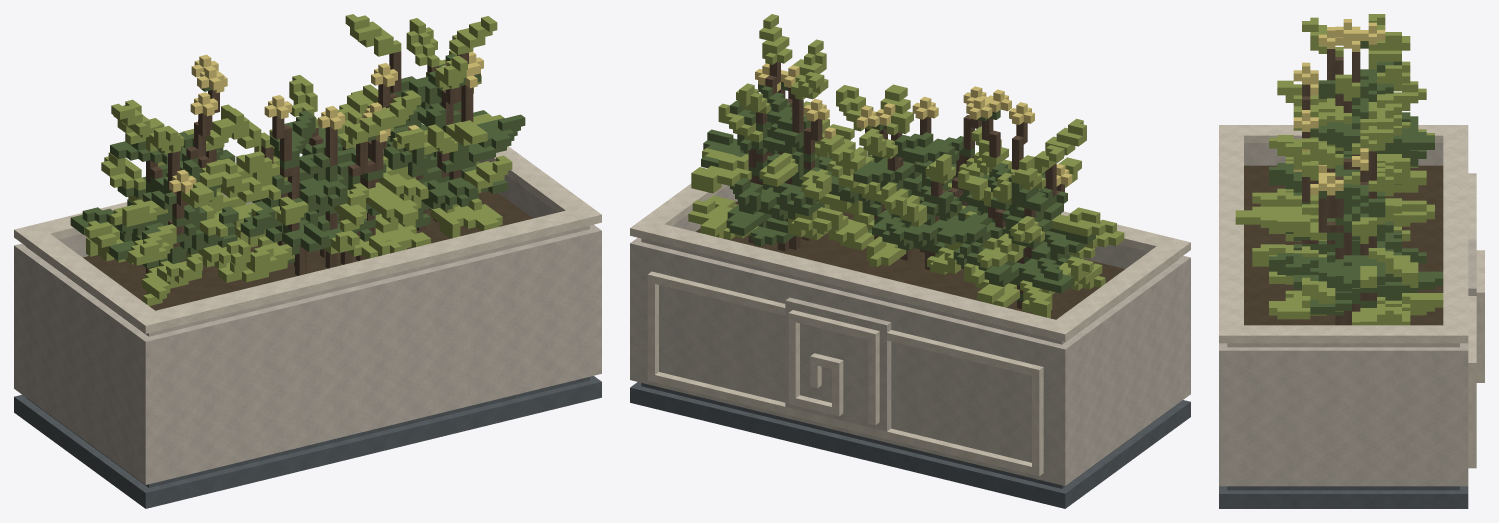
3 renders of one model, left to right at view 1: azimuth 30°, elevation 25°; view 2: azimuth 150°, elevation 25°; view 3: azimuth 270°, elevation 25°, orthographic. The views are drawn at different scales.
Visible parts, largest first — view 1: 研究版 · 花槽 · 口沿与分簇植物; view 2: 研究版 · 花槽 · 口沿与分簇植物; view 3: 研究版 · 花槽 · 口沿与分簇植物.
Boxes of the visible parts, box(x1,y1,x2,y2) form: 研究版 · 花槽 · 口沿与分簇植物: box(14, 14, 601, 508); 研究版 · 花槽 · 口沿与分簇植物: box(630, 14, 1190, 508); 研究版 · 花槽 · 口沿与分簇植物: box(1219, 14, 1484, 508).
Size of the model in its own units: 1.2 by 0.9 by 0.64.
Materials: 9 (9 with a texture image).
